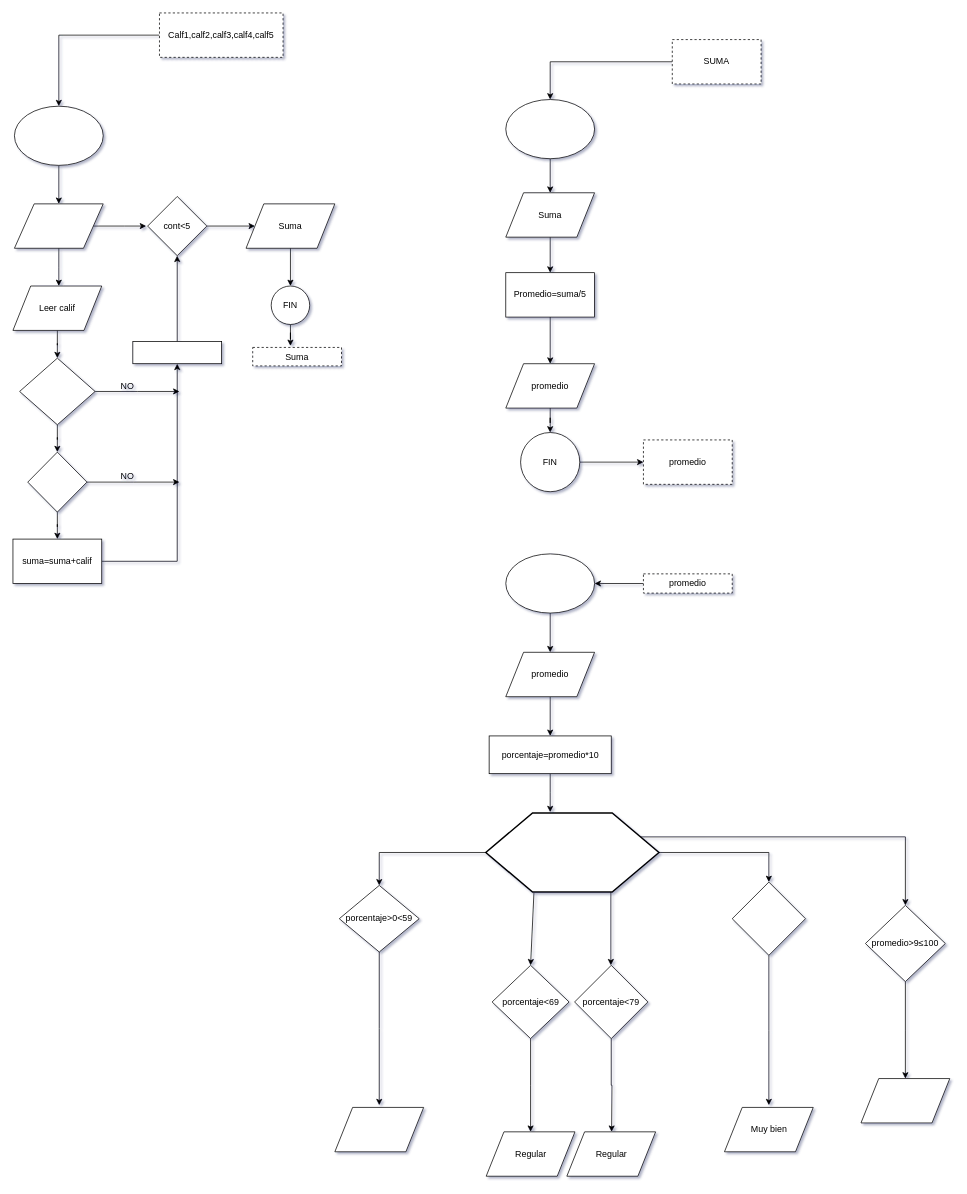
This 967x1194 diagram has some shape labels left out. Here are the shapes that lost their labels. From the top down, the box of each, then its label:
(14, 105, 103, 165): Inicio SUMA
(505, 99, 595, 159): Inicio PROMEDIO
(14, 203, 103, 248): cont=0
(132, 341, 222, 364): cont=cont+1
(19, 357, 95, 425): calif ≤0
(27, 451, 87, 512): calif <=10
(505, 553, 595, 613): INICIO Calificacion Final
(485, 812, 659, 892): Porcentaje
(731, 881, 805, 955): porcentaje<89
(860, 1078, 950, 1123): Exelente
(334, 1107, 424, 1152): Reprobado
